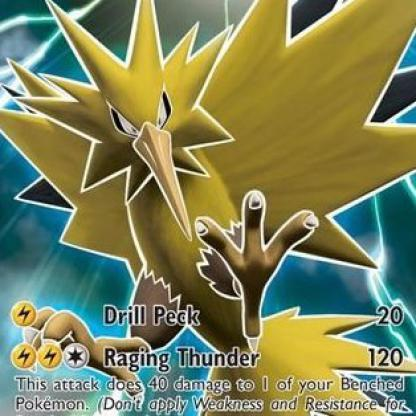Zapdos: (1, 1, 416, 352)
